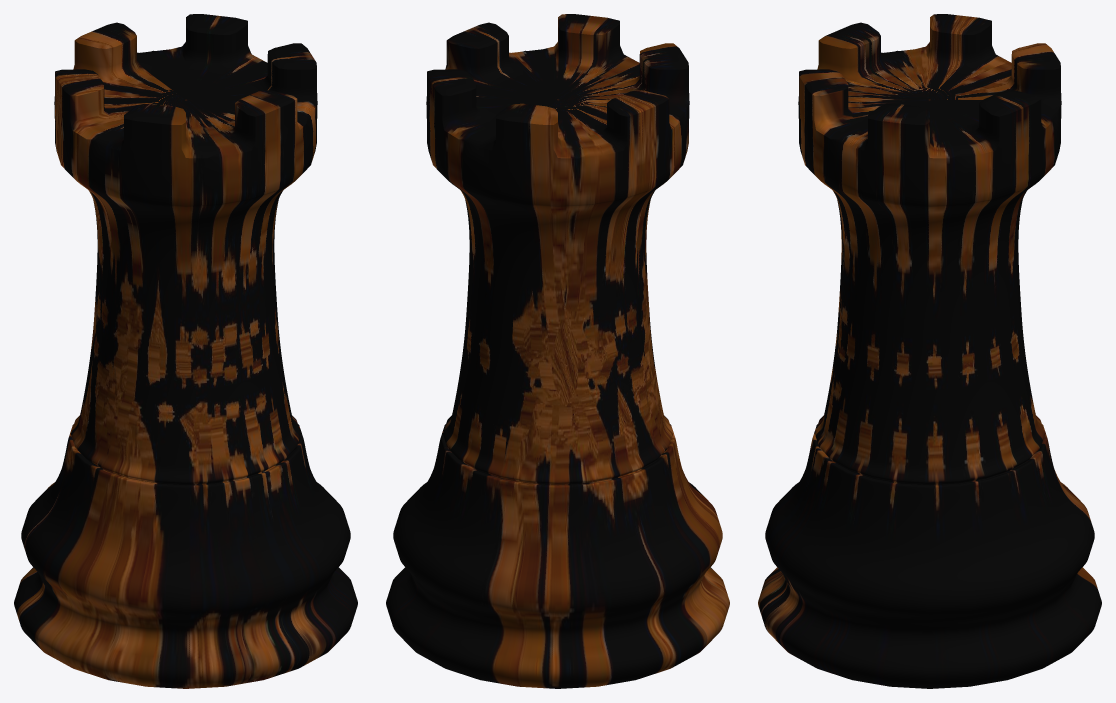
File: rook_dark.obj
3 views of the same model, side by side, from view 1: azimuth 30°, elevation 25°; view 2: azimuth 150°, elevation 25°; view 3: azimuth 270°, elevation 25° (orthographic).
Visible parts, largest first — view 1: mesh01; view 2: mesh01; view 3: mesh01.
Part boxes in pixels (box(x1,y1,x2,y2)): mesh01: box(14, 14, 357, 688); mesh01: box(386, 14, 729, 688); mesh01: box(758, 14, 1101, 688).
Size of the model in its own units: 13.12 by 23.88 by 13.12.
1 material, 1 textured.
